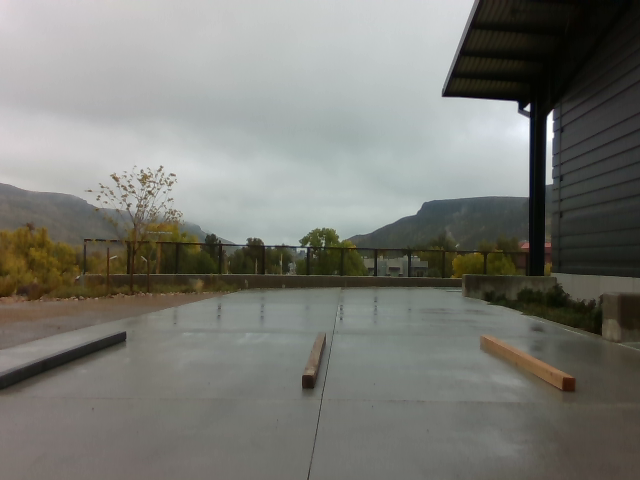dunnage: (0, 325, 585, 407)
